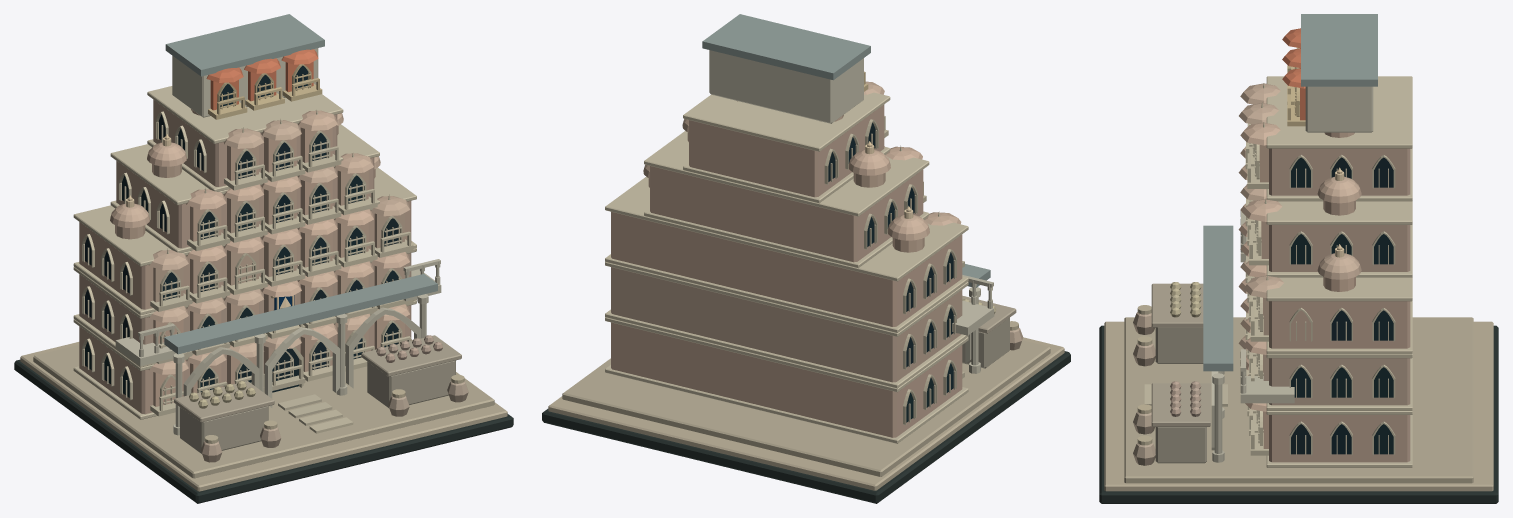
3 renders of one model, left to right at view 1: azimuth 30°, elevation 25°; view 2: azimuth 150°, elevation 25°; view 3: azimuth 270°, elevation 25°, orthographic. The views are drawn at different scales.
Parts seen in each view (by area): view 1: market_L4_0; view 2: market_L4_0; view 3: market_L4_0.
Boxes of the visible parts, <box> form: market_L4_0: <box>14,14,513,503</box>; market_L4_0: <box>542,14,1070,503</box>; market_L4_0: <box>1099,14,1498,503</box>.
Size of the model in its own units: 5.6 by 5.79 by 5.6.
